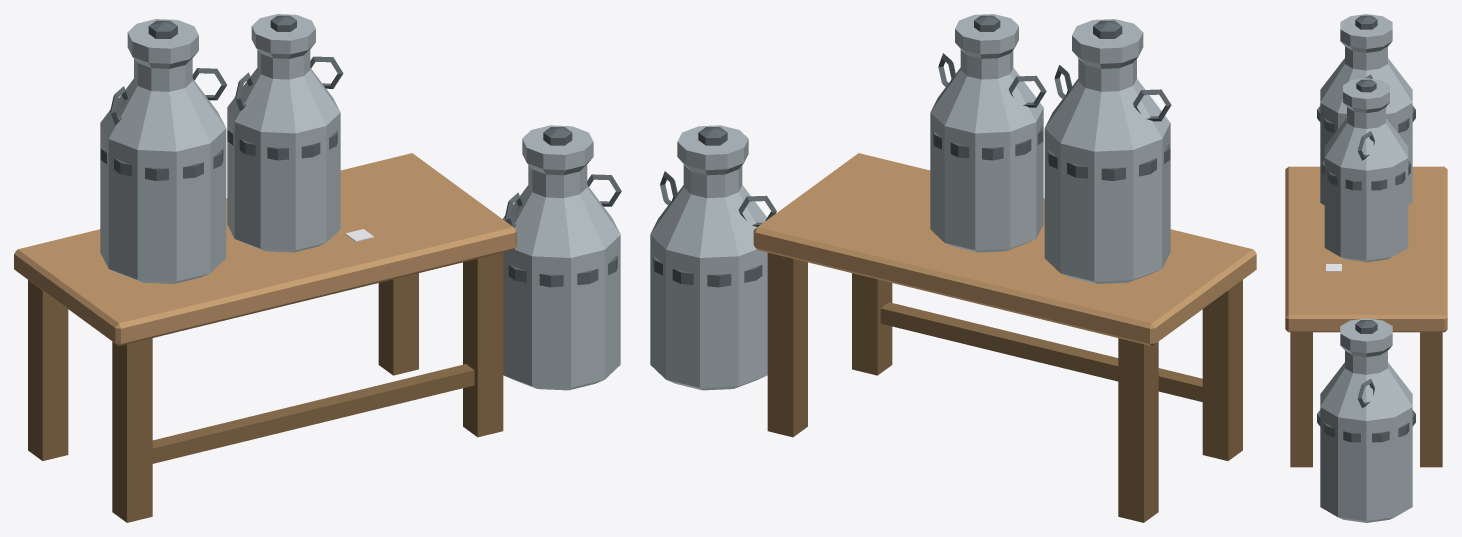
File: milchkannen.glb
3 views of the same model, side by side, from view 1: azimuth 30°, elevation 25°; view 2: azimuth 150°, elevation 25°; view 3: azimuth 270°, elevation 25° (orthographic). The views are drawn at different scales.
Parts seen in each view (by area): view 1: milchkannen-m; view 2: milchkannen-m; view 3: milchkannen-m.
Part boxes in pixels (left/top/right/bottom): milchkannen-m: left=14, top=14, right=621, bottom=522; milchkannen-m: left=650, top=14, right=1256, bottom=522; milchkannen-m: left=1285, top=14, right=1447, bottom=522.
Size of the model in its own units: 1.51 by 1.16 by 0.5.
